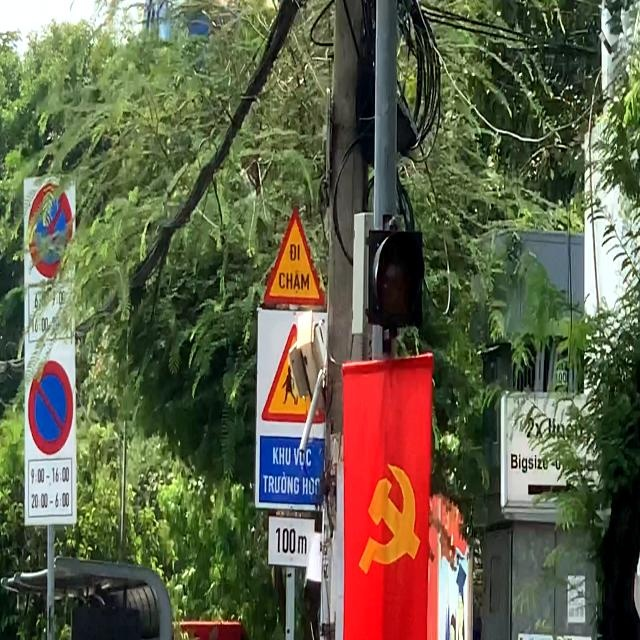bien_nguy_hiem: (264, 207, 327, 305), (27, 182, 74, 280), (28, 360, 74, 456)
